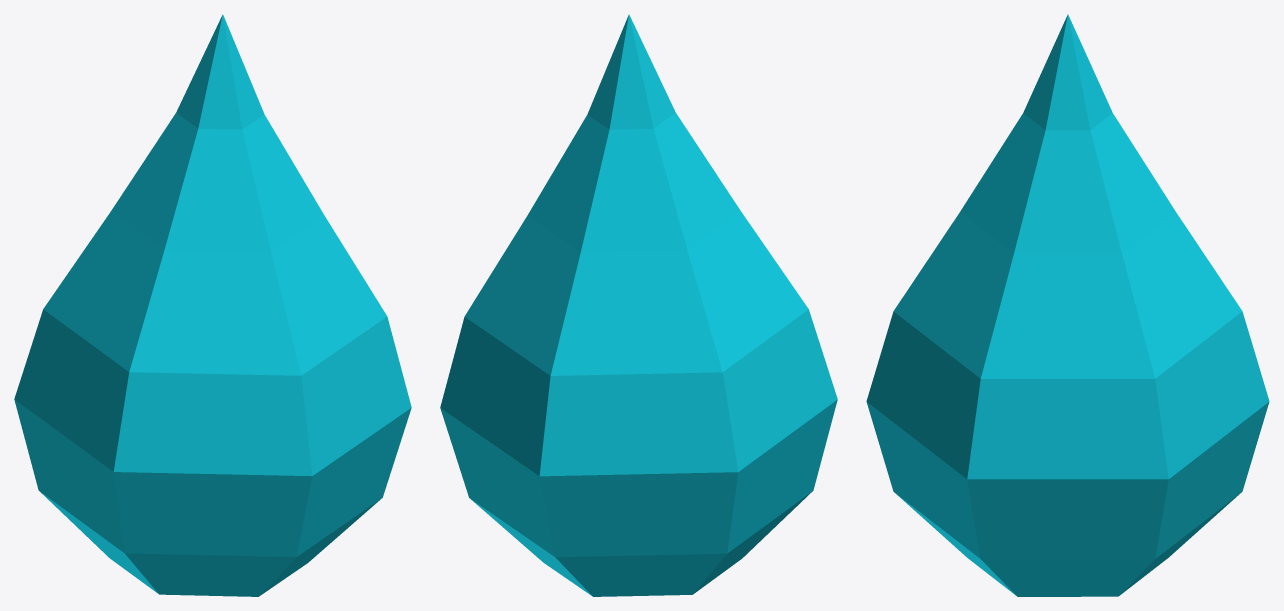
Rendered from gotagua.fbx.
The picture shows the model from 3 angles, left to right: view 1: azimuth 30°, elevation 25°; view 2: azimuth 150°, elevation 25°; view 3: azimuth 270°, elevation 25°; orthographic projection.
Visible parts, largest first — view 1: agua.002; view 2: agua.002; view 3: agua.002.
Boxes of the visible parts, x1,y1,x2,y2 form: agua.002: [14, 14, 411, 596]; agua.002: [440, 14, 837, 596]; agua.002: [866, 14, 1269, 596].
Bounding box in the file's own units: 18.75 × 34.15 × 21.66.
